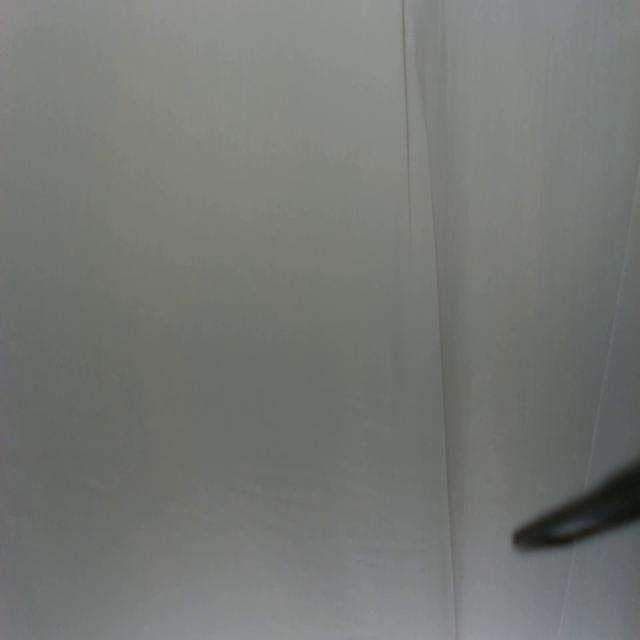crease: (422, 93, 460, 640), (587, 165, 640, 462), (400, 0, 413, 237)
